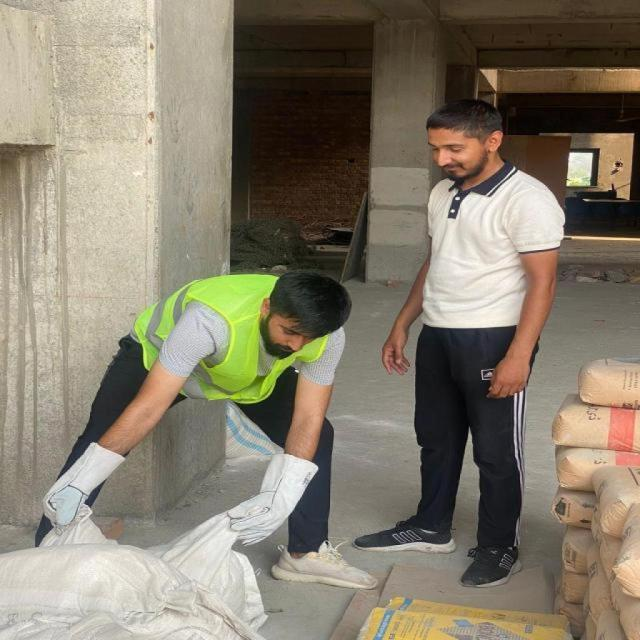Gloves-Detection: (234, 440, 317, 544), (41, 434, 122, 512)
